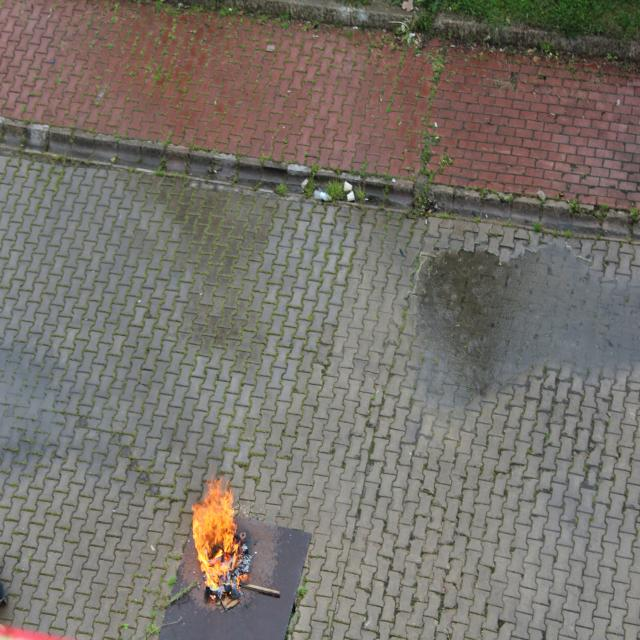fire: (192, 472, 242, 598)
